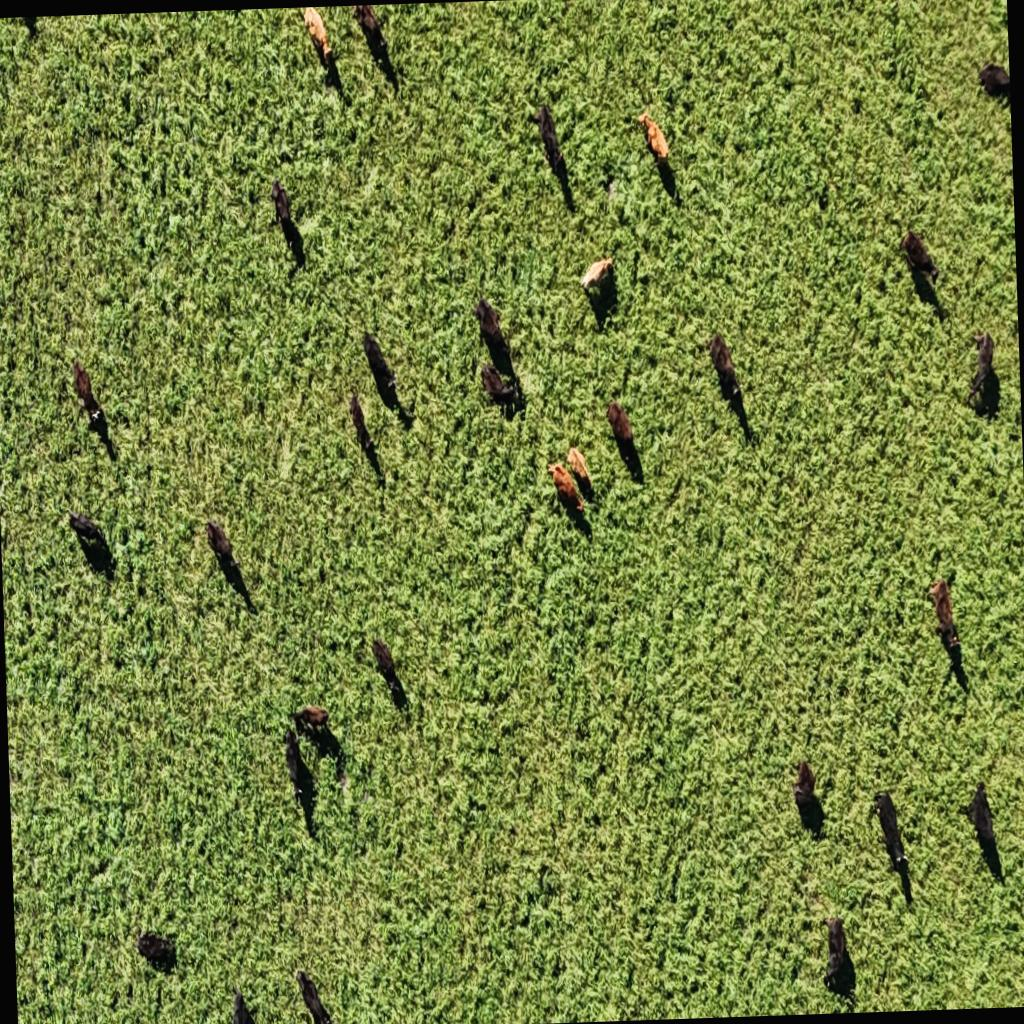cow: (636, 108, 675, 196), (474, 297, 516, 375), (362, 327, 400, 406), (526, 102, 566, 177), (870, 792, 908, 870), (928, 575, 960, 660), (706, 331, 742, 404), (822, 916, 854, 994), (966, 330, 997, 410), (544, 458, 584, 518), (72, 358, 105, 430), (964, 778, 996, 852), (899, 228, 939, 286), (282, 724, 311, 804), (294, 967, 332, 1024), (478, 363, 520, 413), (205, 520, 241, 576), (68, 510, 108, 560), (348, 390, 376, 460), (578, 256, 618, 304), (351, 4, 387, 56), (134, 929, 174, 973), (301, 6, 332, 62), (564, 438, 596, 492), (789, 759, 816, 812), (606, 400, 634, 449), (978, 61, 1010, 101), (283, 219, 306, 273), (371, 636, 397, 682), (294, 704, 330, 734), (270, 178, 290, 228), (230, 987, 244, 1024), (637, 109, 653, 134), (821, 967, 833, 991)
